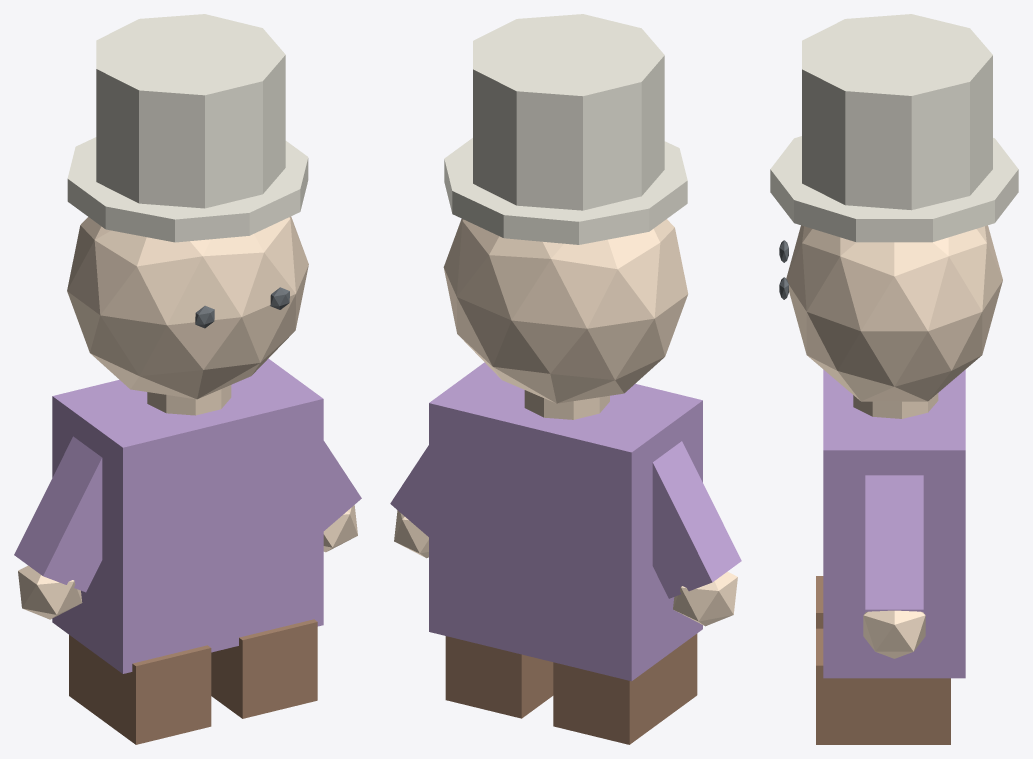
File: guest_03.glb
3 views of the same model, side by side, from view 1: azimuth 30°, elevation 25°; view 2: azimuth 150°, elevation 25°; view 3: azimuth 270°, elevation 25° (orthographic).
Visible parts, largest first — view 1: short overalls.002, tall chef cap, head.002, boot.004, chef cap brim, arm.004, boot.005, hand.004, arm.005, round neck.002, hand.005; view 2: short overalls.002, tall chef cap, head.002, chef cap brim, boot.004, arm.004, boot.005, hand.004, arm.005, round neck.002, hand.005; view 3: tall chef cap, short overalls.002, head.002, chef cap brim, boot.005, arm.005, hand.005, round neck.002, boot.004.
Boxes of the visible parts, x1=… form: short overalls.002: x1=52, y1=358, x2=323, y2=673; tall chef cap: x1=96, y1=14, x2=285, y2=208; head.002: x1=67, y1=216, x2=308, y2=399; boot.004: x1=69, y1=635, x2=211, y2=744; chef cap brim: x1=67, y1=137, x2=308, y2=242; arm.004: x1=14, y1=436, x2=102, y2=592; boot.005: x1=211, y1=619, x2=317, y2=718; hand.004: x1=18, y1=565, x2=82, y2=619; arm.005: x1=323, y1=441, x2=361, y2=530; round neck.002: x1=147, y1=385, x2=231, y2=415; hand.005: x1=323, y1=505, x2=357, y2=552; short overalls.002: x1=429, y1=362, x2=702, y2=681; tall chef cap: x1=473, y1=14, x2=664, y2=210; head.002: x1=443, y1=219, x2=688, y2=403; chef cap brim: x1=444, y1=138, x2=687, y2=244; boot.004: x1=553, y1=633, x2=697, y2=744; arm.004: x1=652, y1=441, x2=741, y2=598; boot.005: x1=445, y1=636, x2=553, y2=718; hand.004: x1=673, y1=571, x2=737, y2=626; arm.005: x1=390, y1=445, x2=428, y2=536; round neck.002: x1=524, y1=390, x2=609, y2=419; hand.005: x1=394, y1=510, x2=428, y2=558; tall chef cap: x1=802, y1=14, x2=992, y2=210; short overalls.002: x1=823, y1=369, x2=965, y2=678; head.002: x1=786, y1=225, x2=1002, y2=401; chef cap brim: x1=770, y1=136, x2=1018, y2=242; boot.005: x1=816, y1=628, x2=950, y2=744; arm.005: x1=865, y1=475, x2=923, y2=612; hand.005: x1=863, y1=610, x2=925, y2=658; round neck.002: x1=853, y1=393, x2=938, y2=418; boot.004: x1=816, y1=576, x2=823, y2=628.
Bounding box in the file's own units: 1.06 × 1.95 × 0.68.
